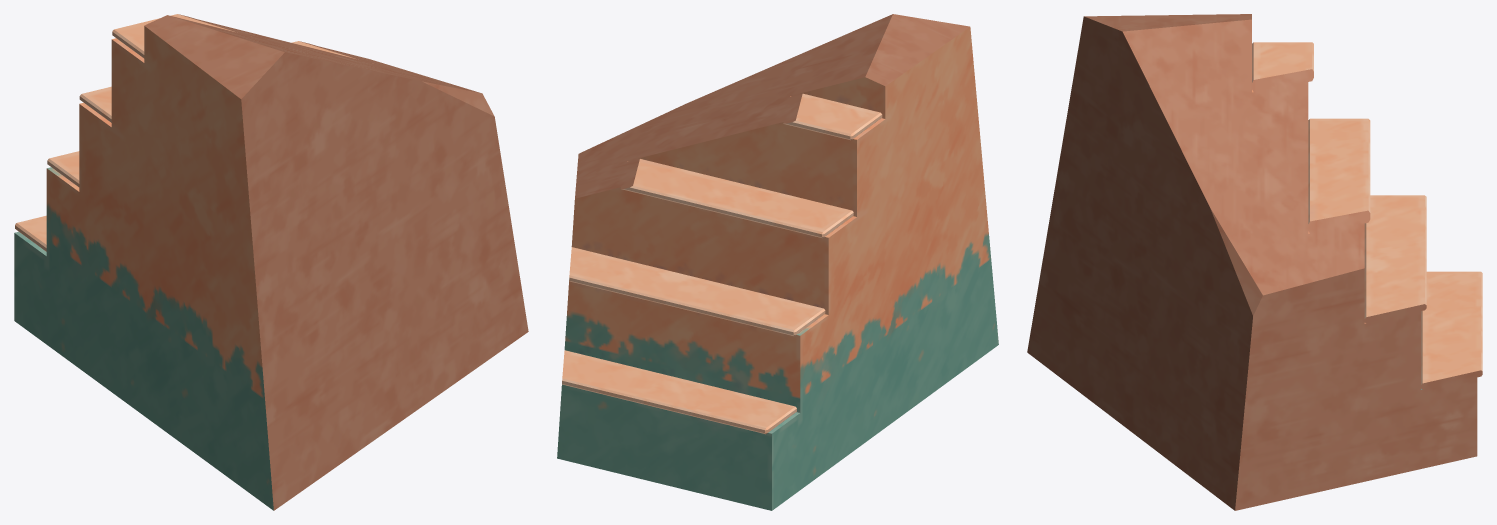
The model's file is stairs_s04.fbx.
3 views of the same model, side by side, from view 1: azimuth 30°, elevation 25°; view 2: azimuth 150°, elevation 25°; view 3: azimuth 270°, elevation 25° (orthographic). The views are drawn at different scales.
Parts seen in each view (by area): view 1: stairs_s04; view 2: stairs_s04; view 3: stairs_s04.
Part boxes in pixels (x1,y1,x2,y2): stairs_s04: [14, 14, 528, 510]; stairs_s04: [557, 14, 998, 510]; stairs_s04: [1027, 14, 1482, 510].
Bounding box in the file's own units: 6.66 × 6.84 × 8.1.
